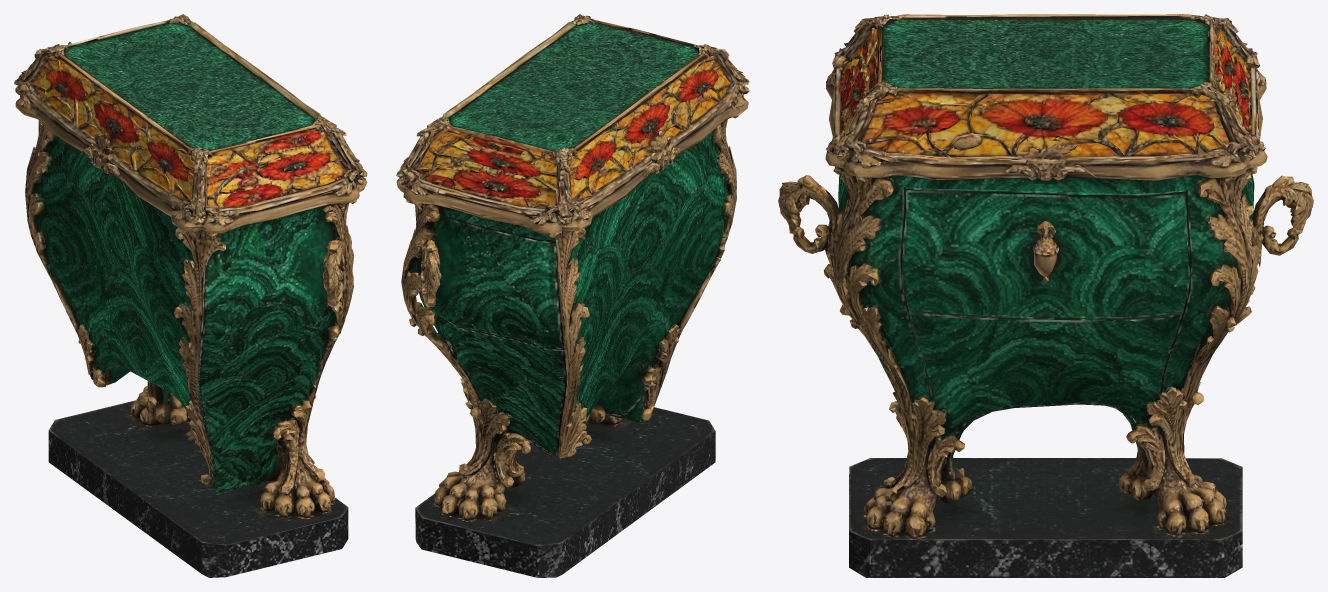
Rendered from MO-01_bedside_table_game.glb.
3 renders of one model, left to right at view 1: azimuth 30°, elevation 25°; view 2: azimuth 150°, elevation 25°; view 3: azimuth 270°, elevation 25°, orthographic. The views are drawn at different scales.
Parts seen in each view (by area): view 1: MO-01_bedside_table; view 2: MO-01_bedside_table; view 3: MO-01_bedside_table.
Part boxes in pixels (x1,y1,x2,y2): MO-01_bedside_table: [14, 14, 367, 577]; MO-01_bedside_table: [396, 14, 749, 577]; MO-01_bedside_table: [778, 14, 1313, 577].
Size of the model in its own units: 0.3048 by 0.6198 by 0.6181.
1 material, 1 textured.
